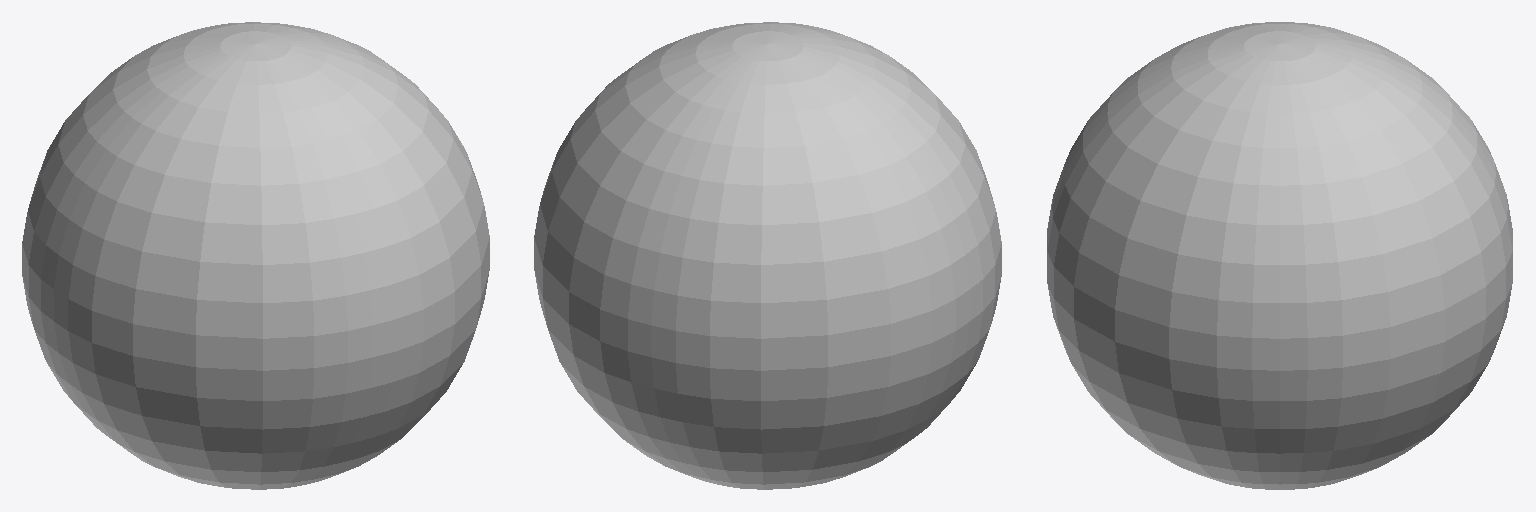
Rendered from ball.obj.
3 renders of one model, left to right at view 1: azimuth 30°, elevation 25°; view 2: azimuth 150°, elevation 25°; view 3: azimuth 270°, elevation 25°, orthographic.
Visible parts, largest first — view 1: SurfSphere.001; view 2: SurfSphere.001; view 3: SurfSphere.001.
Boxes of the visible parts, x1=… form: SurfSphere.001: x1=22, y1=22, x2=489, y2=489; SurfSphere.001: x1=534, y1=22, x2=1001, y2=489; SurfSphere.001: x1=1047, y1=22, x2=1512, y2=489.
Bounding box in the file's own units: 1.99 × 2 × 1.99.